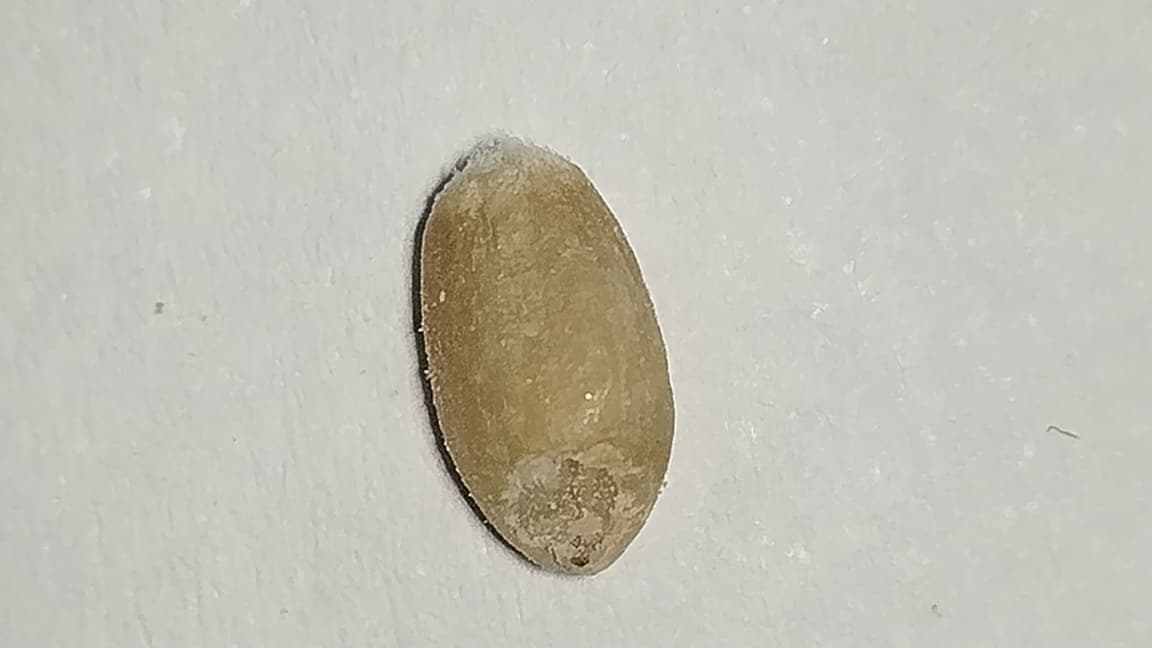damage: (413, 136, 673, 573)
insectdamage: (496, 401, 650, 585)
